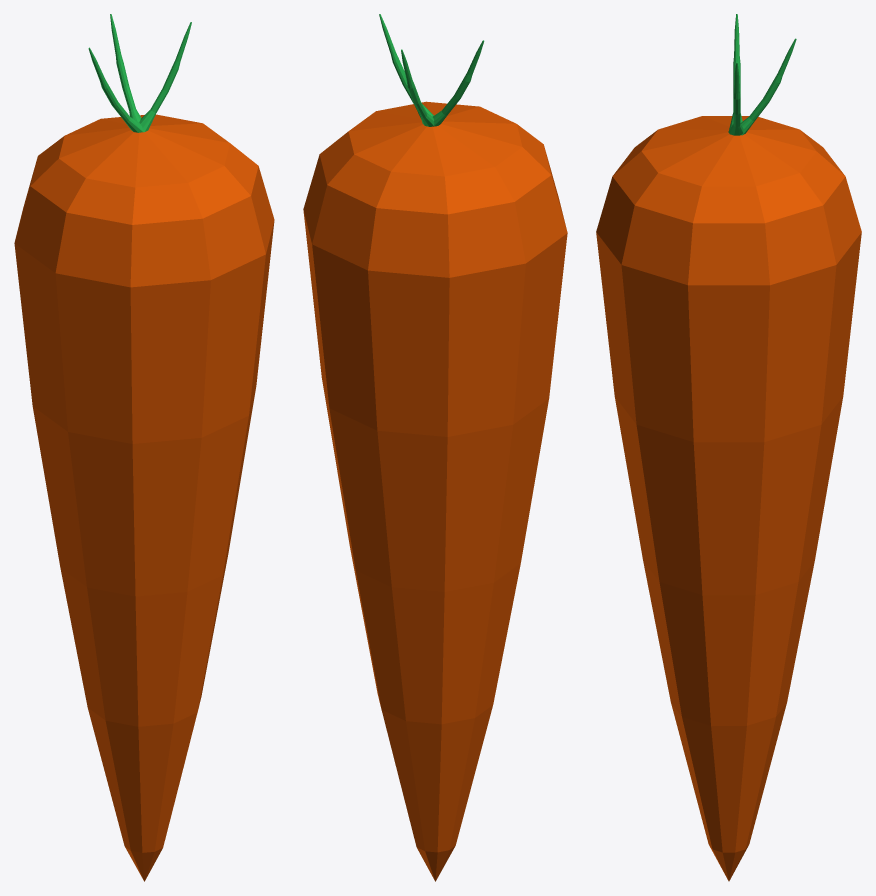
The model's file is Carrot.glb.
3 renders of one model, left to right at view 1: azimuth 30°, elevation 25°; view 2: azimuth 150°, elevation 25°; view 3: azimuth 270°, elevation 25°, orthographic.
Parts seen in each view (by area): view 1: Cylinder.001; view 2: Cylinder.001; view 3: Cylinder.001.
Part boxes in pixels (<box>): Cylinder.001: <box>14,14,274,881</box>; Cylinder.001: <box>303,14,567,881</box>; Cylinder.001: <box>596,14,861,881</box>.
Size of the model in its own units: 2.26 by 8.32 by 2.37.
1 material, 1 textured.
